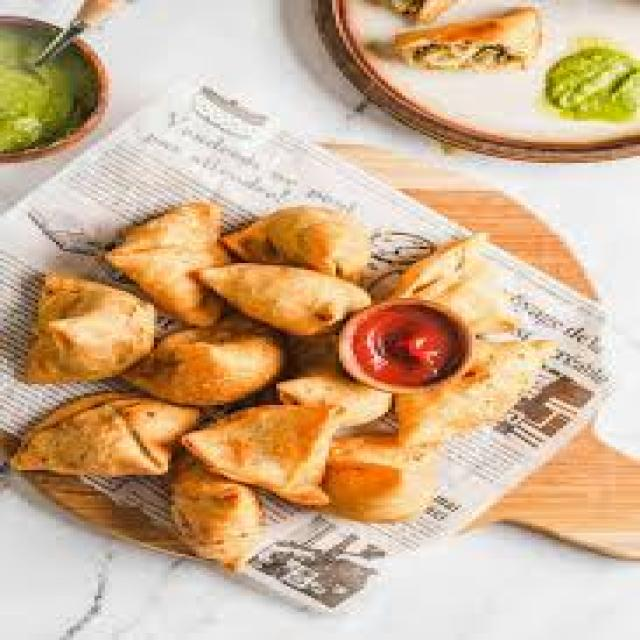SAMOSA: (329, 340, 553, 519), (105, 202, 227, 323), (182, 405, 332, 503), (24, 272, 154, 382), (17, 396, 196, 472), (196, 263, 367, 333), (122, 328, 276, 403), (388, 240, 511, 333), (224, 207, 367, 282), (178, 454, 262, 568)
